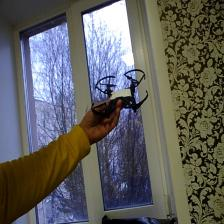drone: (91, 68, 150, 122)
